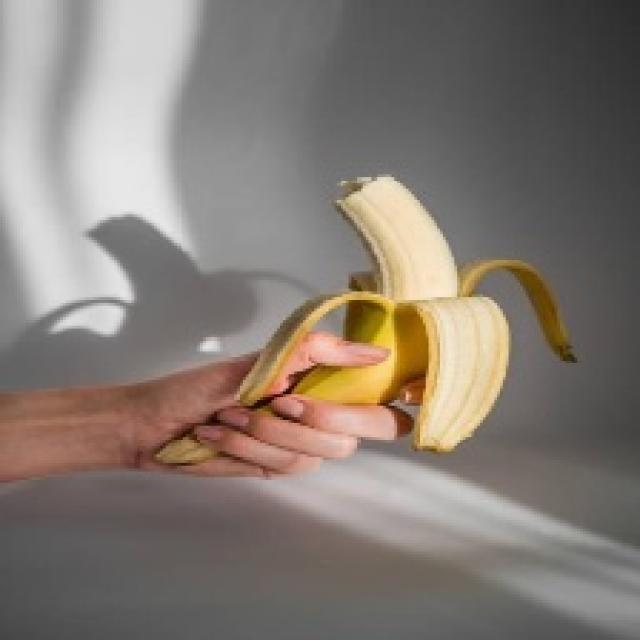Banana: (248, 170, 572, 488)
